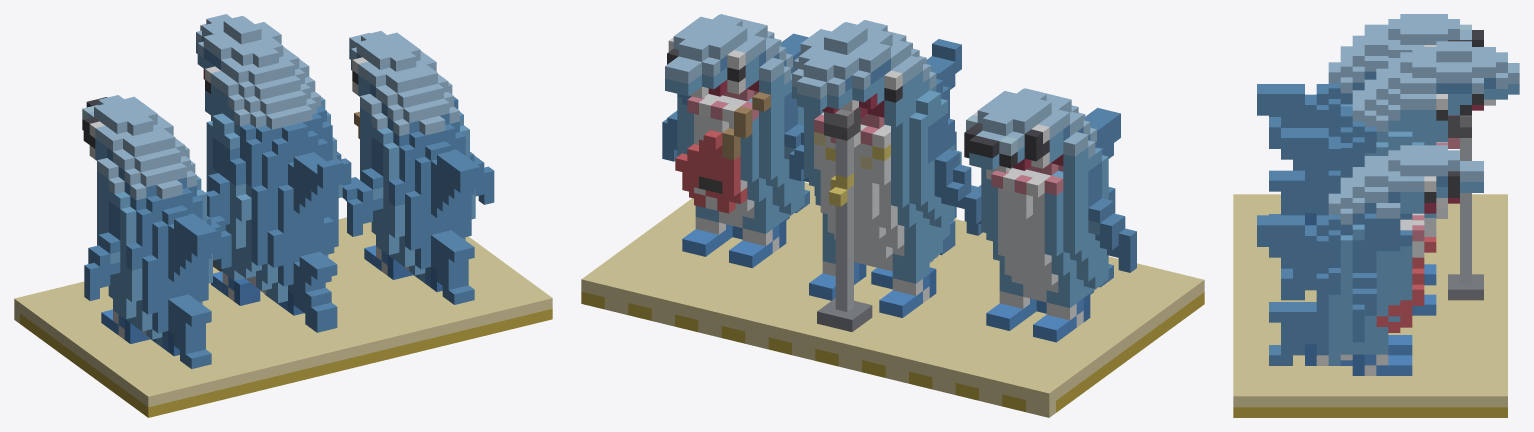
The model's file is LosTralaleritos.glb.
3 renders of one model, left to right at view 1: azimuth 30°, elevation 25°; view 2: azimuth 150°, elevation 25°; view 3: azimuth 270°, elevation 25°, orthographic. The views are drawn at different scales.
Visible parts, largest first — view 1: geometry_0; view 2: geometry_0; view 3: geometry_0.
Part boxes in pixels (x1,y1,x2,y2): geometry_0: (14, 14, 552, 417); geometry_0: (581, 14, 1204, 417); geometry_0: (1233, 14, 1519, 417).
Size of the model in its own units: 1.18 by 0.7353 by 0.7059.
